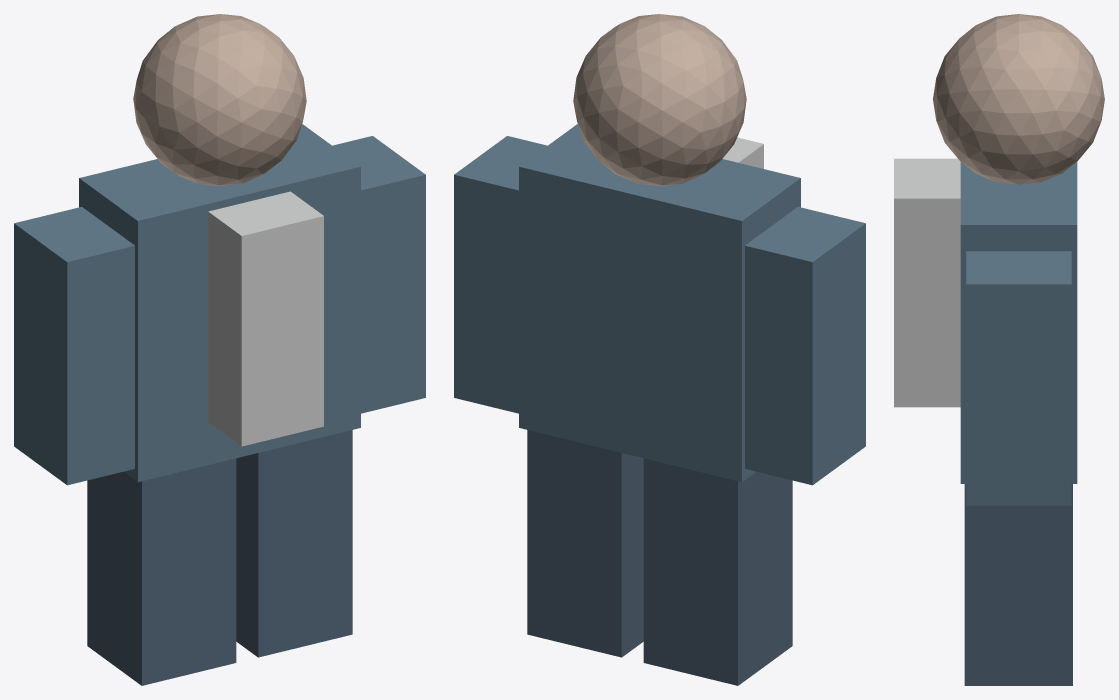
The model's file is arya_patole_3d.glb.
3 renders of one model, left to right at view 1: azimuth 30°, elevation 25°; view 2: azimuth 150°, elevation 25°; view 3: azimuth 270°, elevation 25°, orthographic.
Parts seen in each view (by area): view 1: placeholder_jacket, arm, leg, placeholder_shirt, leg_1, placeholder_head, arm_1; view 2: placeholder_jacket, arm, leg, leg_1, placeholder_head, arm_1, placeholder_shirt; view 3: arm_1, placeholder_head, leg_1, placeholder_shirt, placeholder_jacket.
Part boxes in pixels (left/top/right/bottom): placeholder_jacket: left=79, top=124, right=360, bottom=482; arm: left=14, top=207, right=134, bottom=485; leg: left=87, top=458, right=236, bottom=685; placeholder_shirt: left=208, top=191, right=323, bottom=446; leg_1: left=236, top=430, right=352, bottom=657; placeholder_head: left=133, top=14, right=306, bottom=185; arm_1: left=332, top=136, right=425, bottom=413; placeholder_jacket: left=519, top=124, right=800, bottom=482; arm: left=745, top=207, right=865, bottom=485; leg: left=643, top=458, right=792, bottom=685; leg_1: left=527, top=430, right=643, bottom=657; placeholder_head: left=573, top=14, right=746, bottom=185; arm_1: left=454, top=136, right=547, bottom=413; placeholder_shirt: left=722, top=137, right=763, bottom=168; arm_1: left=966, top=251, right=1071, bottom=505; placeholder_head: left=933, top=14, right=1104, bottom=184; leg_1: left=964, top=484, right=1072, bottom=685; placeholder_shirt: left=894, top=158, right=960, bottom=407; placeholder_jacket: left=960, top=161, right=1077, bottom=483.
Bounding box in the file's own units: 1.48 × 2.44 × 0.76.
